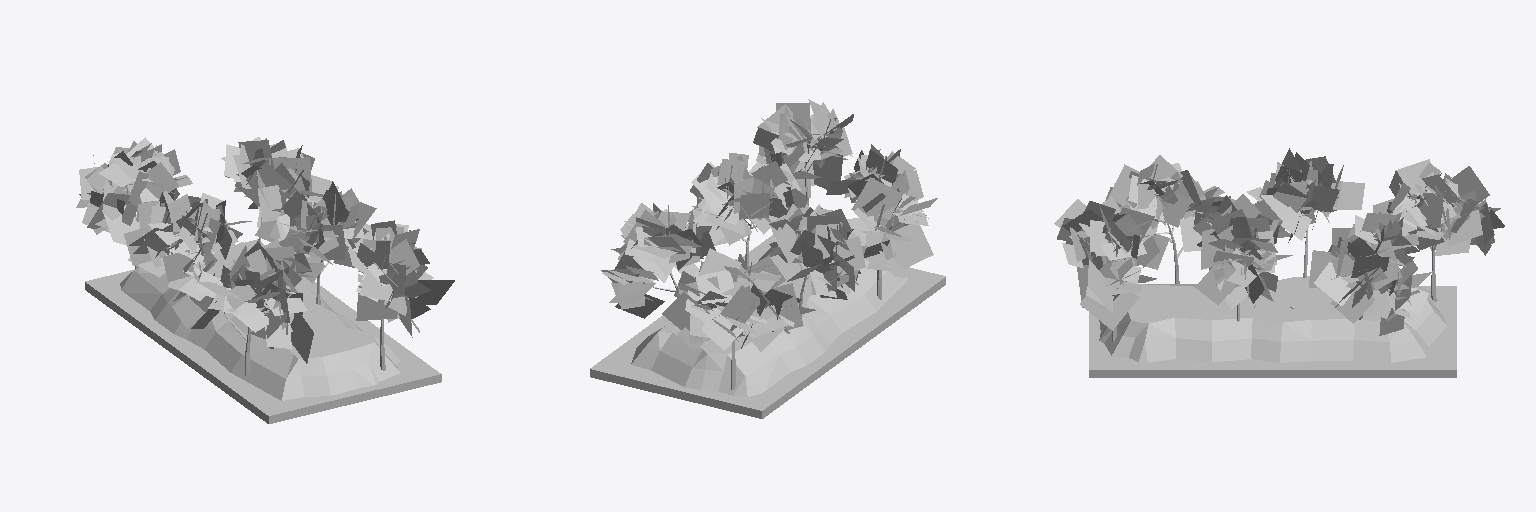
The model's file is cf_ta_depr.obj.
3 views of the same model, side by side, from view 1: azimuth 30°, elevation 25°; view 2: azimuth 150°, elevation 25°; view 3: azimuth 270°, elevation 25° (orthographic).
Parts seen in each view (by area): view 1: hill_Plane, t3.002, field_Cube.001, t2.002, t6, t1, t5, t4; view 2: hill_Plane, t1, field_Cube.001, t3.002, t5, t4, t2.002, t6; view 3: hill_Plane, t4, field_Cube.001, t6, t1, t5, t2.002, t3.002.
Boxes of the visible parts, x1,y1,x2,y2 form: hill_Plane: [120, 242, 400, 400]; t3.002: [172, 239, 313, 375]; field_Cube.001: [85, 239, 441, 423]; t2.002: [124, 191, 251, 301]; t6: [345, 220, 454, 370]; t1: [76, 137, 192, 268]; t5: [270, 181, 376, 304]; t4: [221, 137, 338, 243]; hill_Plane: [631, 247, 907, 396]; t1: [662, 248, 815, 389]; field_Cube.001: [590, 234, 945, 418]; t3.002: [826, 144, 937, 299]; t5: [688, 153, 809, 267]; t4: [601, 203, 715, 318]; t2.002: [769, 204, 868, 317]; t6: [749, 99, 853, 205]; hill_Plane: [1099, 276, 1446, 362]; t4: [1309, 212, 1431, 335]; field_Cube.001: [1089, 286, 1456, 377]; t6: [1054, 196, 1156, 341]; t1: [1373, 159, 1504, 301]; t5: [1180, 194, 1292, 321]; t2.002: [1247, 148, 1364, 277]; t3.002: [1105, 155, 1254, 283].
Size of the model in its own units: 14.8 by 9.58 by 25.04.